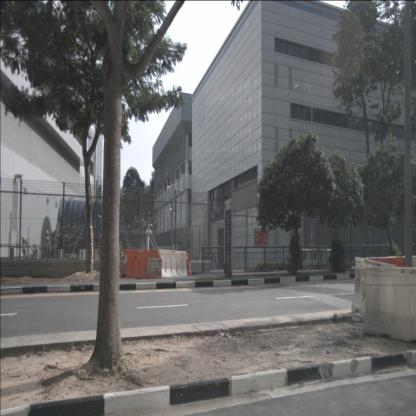barrier: (363, 267, 416, 345), (351, 257, 397, 324), (366, 256, 404, 294), (123, 248, 159, 278), (157, 249, 188, 279), (175, 253, 193, 276)
cone: (187, 260, 193, 276)
